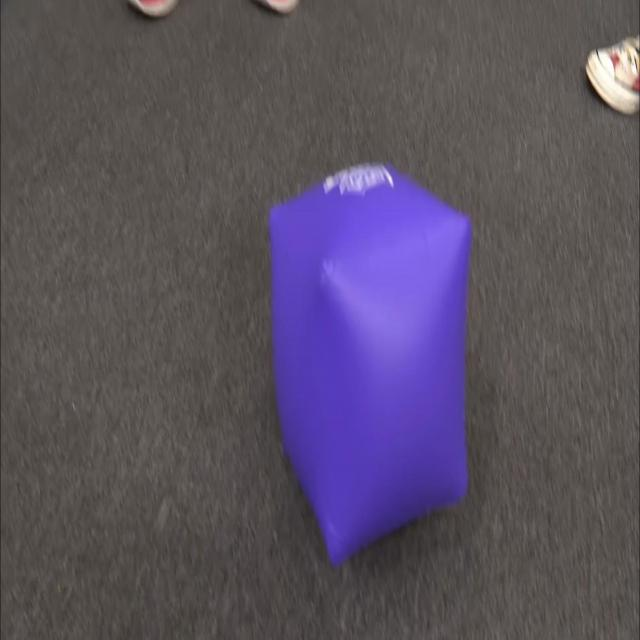frc_cube: (264, 145, 474, 583)
